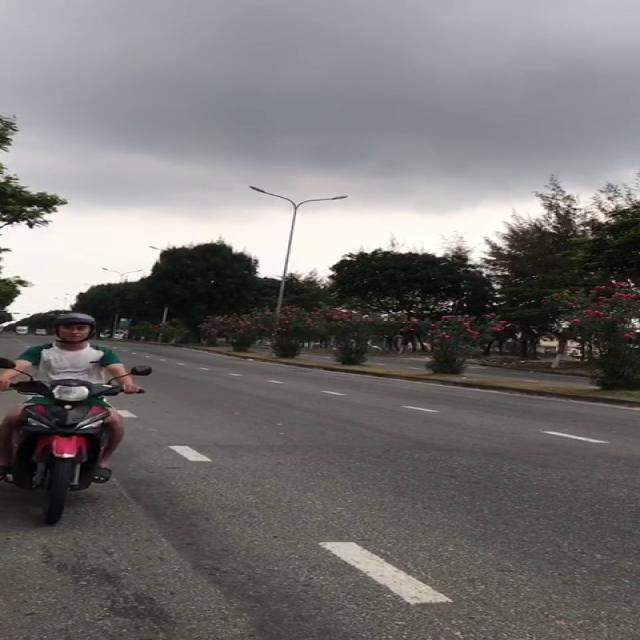helmet: (52, 312, 98, 341)
